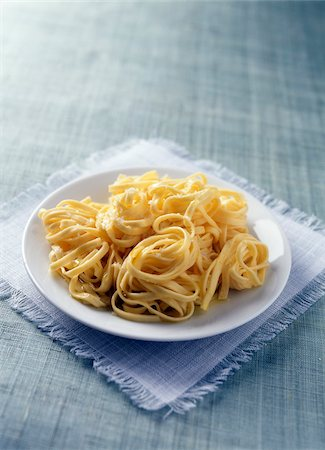plain spaghetti: (42, 171, 267, 325)
